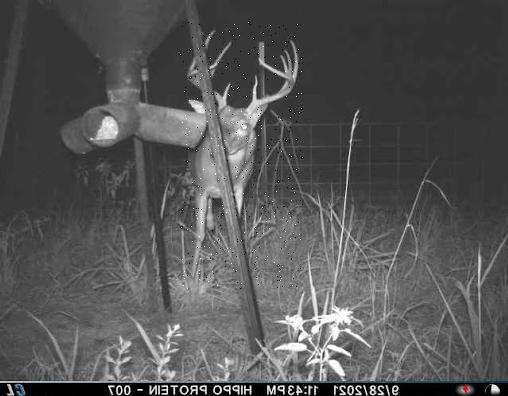Deer: (180, 22, 303, 289)
